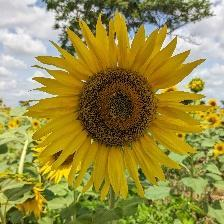sunflower: (24, 9, 215, 204)
